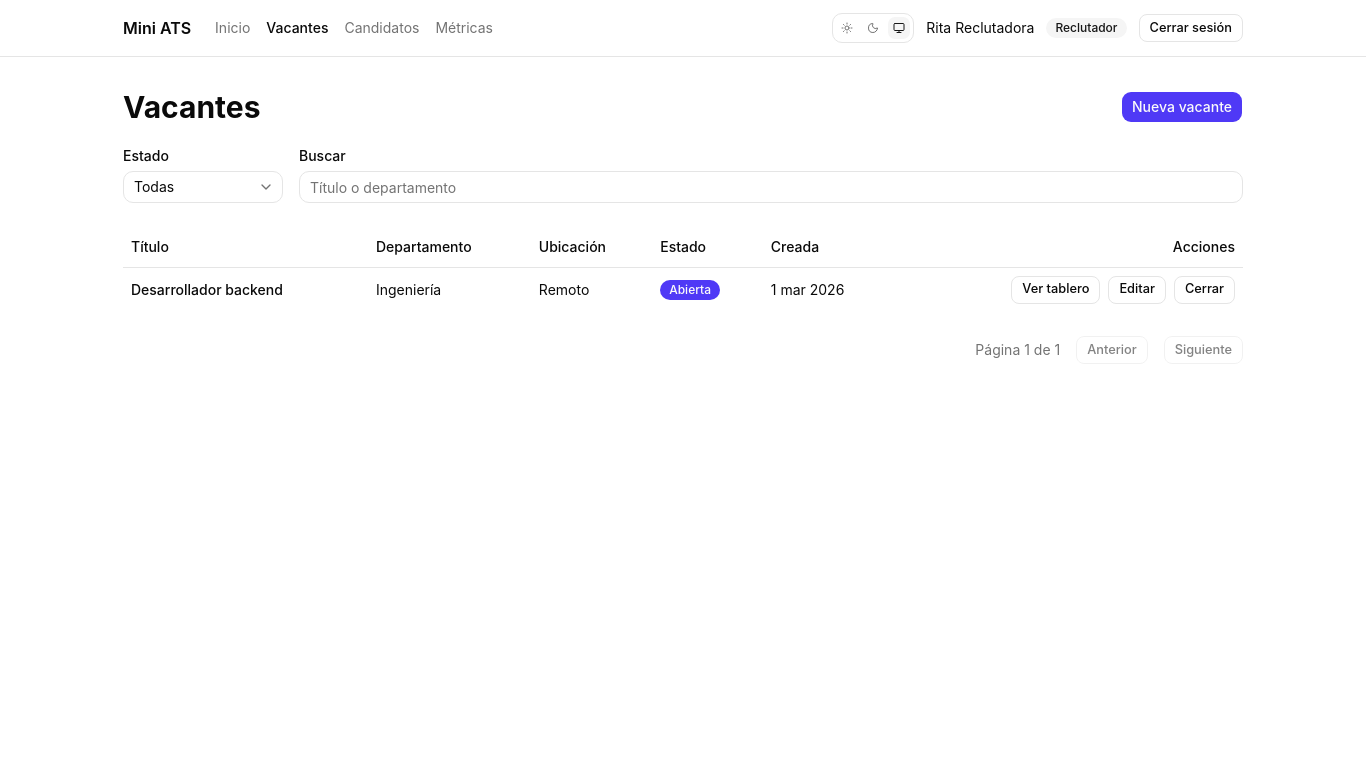
Test: JobsPage › keeps the dialog open with an error if closing fails
This screenshot has width=1366, height=768.
expect the text "Desarrollador backend" is shown: met, box [123,267,368,312]
Click the button "Cerrar": (1204, 290) [1174,276,1235,304]
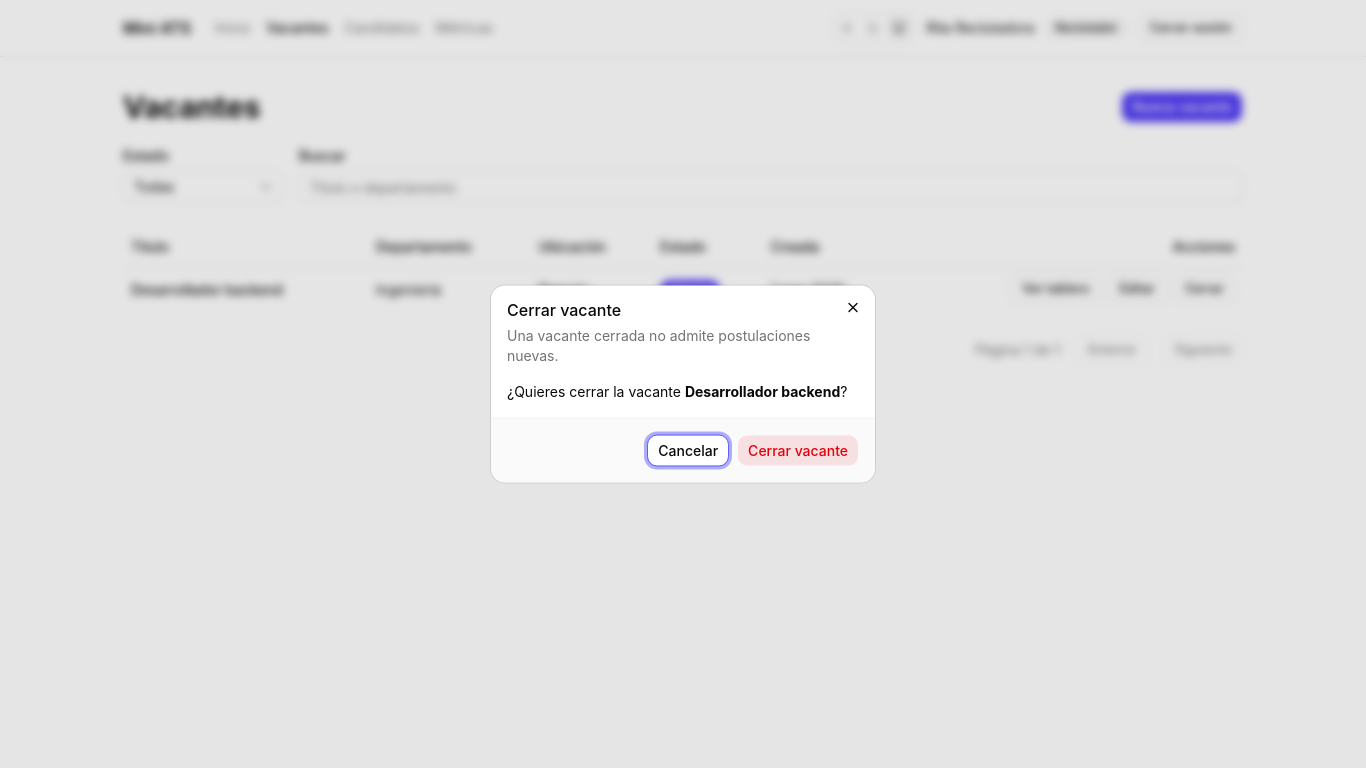
Click the button "Cerrar vacante": (798, 450) [737,434,859,466]
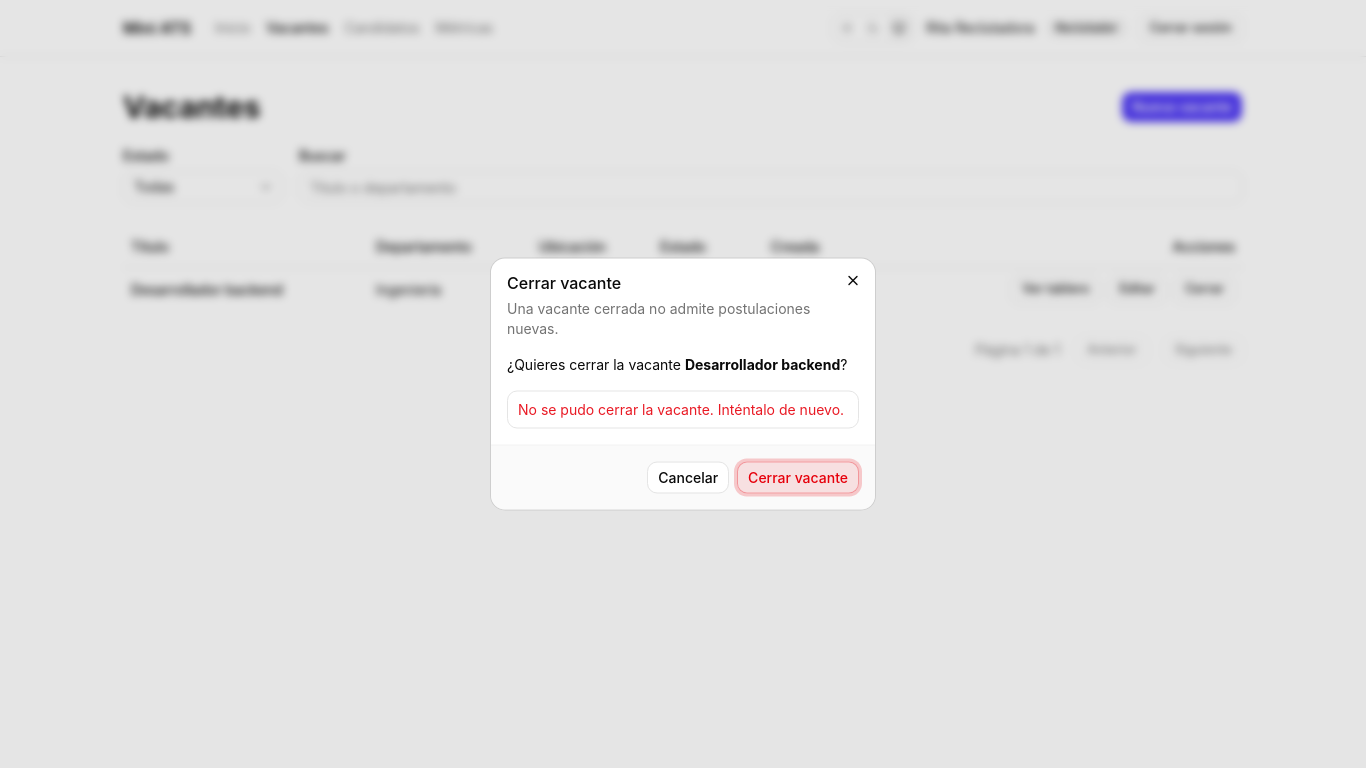
expect the text "No se pudo cerrar la vacante. Inténtalo de nuevo." is shown: met, box [518,400,848,420]
